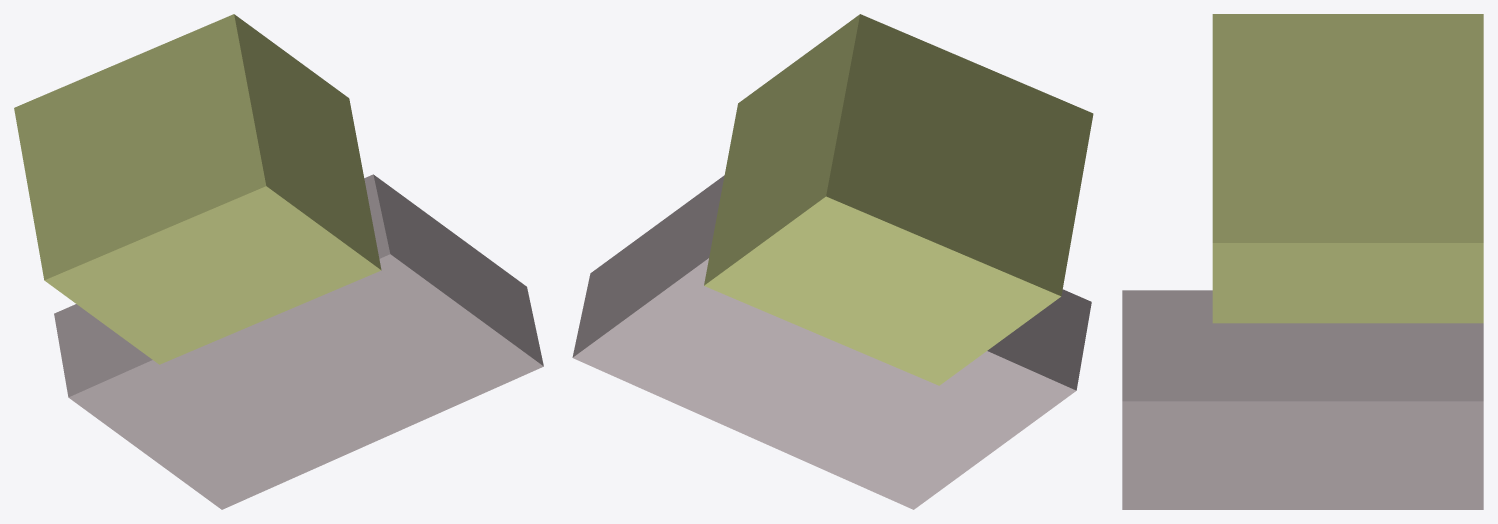
3 renders of one model, left to right at view 1: azimuth 30°, elevation 25°; view 2: azimuth 150°, elevation 25°; view 3: azimuth 270°, elevation 25°, orthographic. The views are drawn at different scales.
Visible parts, largest first — view 1: 0_1_2_3_3_3_3_3_1; view 2: 0_1_2_3_3_3_3_3_1; view 3: 0_1_2_3_3_3_3_3_1.
Boxes of the visible parts, x1,y1,x2,y2 form: 0_1_2_3_3_3_3_3_1: (14,14,543,509); 0_1_2_3_3_3_3_3_1: (572,14,1093,509); 0_1_2_3_3_3_3_3_1: (1122,14,1483,509).
Size of the model in its own units: 16.97 by 14.78 by 12.
